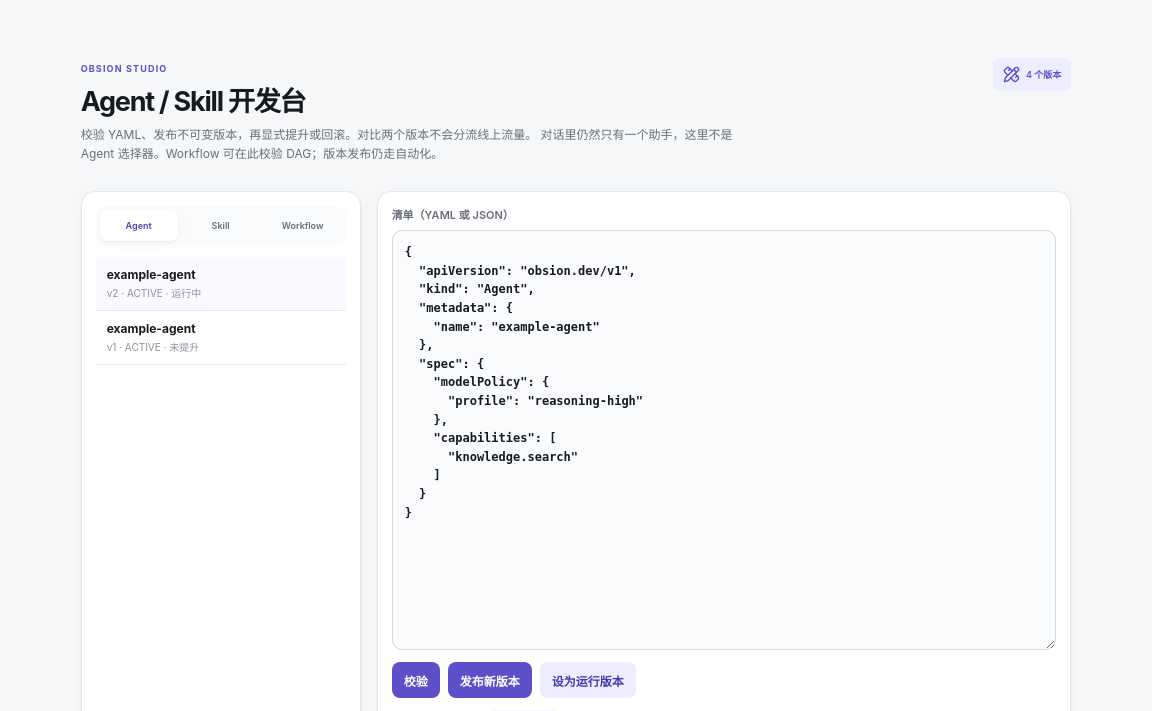
Test: StudioView interactions › promotes only the explicitly selected immutable version
Click the button "example-agent v1 · ACTIVE · 未提升" at (221, 338), box [96,311,346,365]
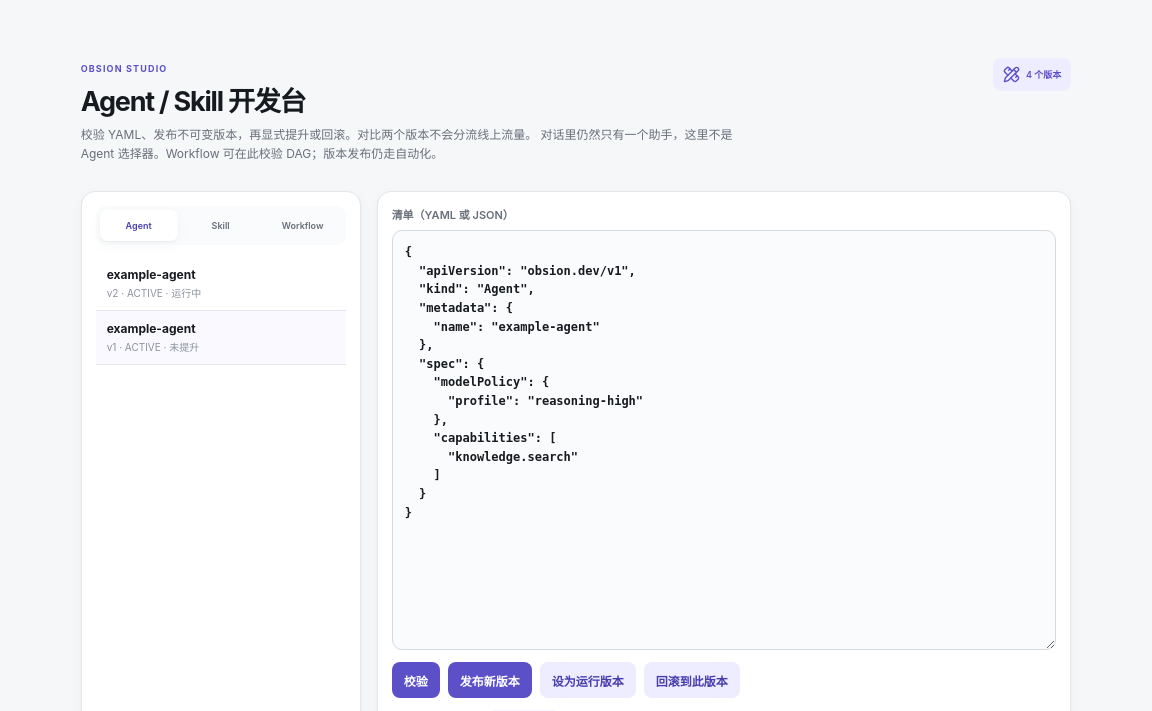
Click the button "设为运行版本" at (588, 680), box [540,662,636,698]
(page scrolled)
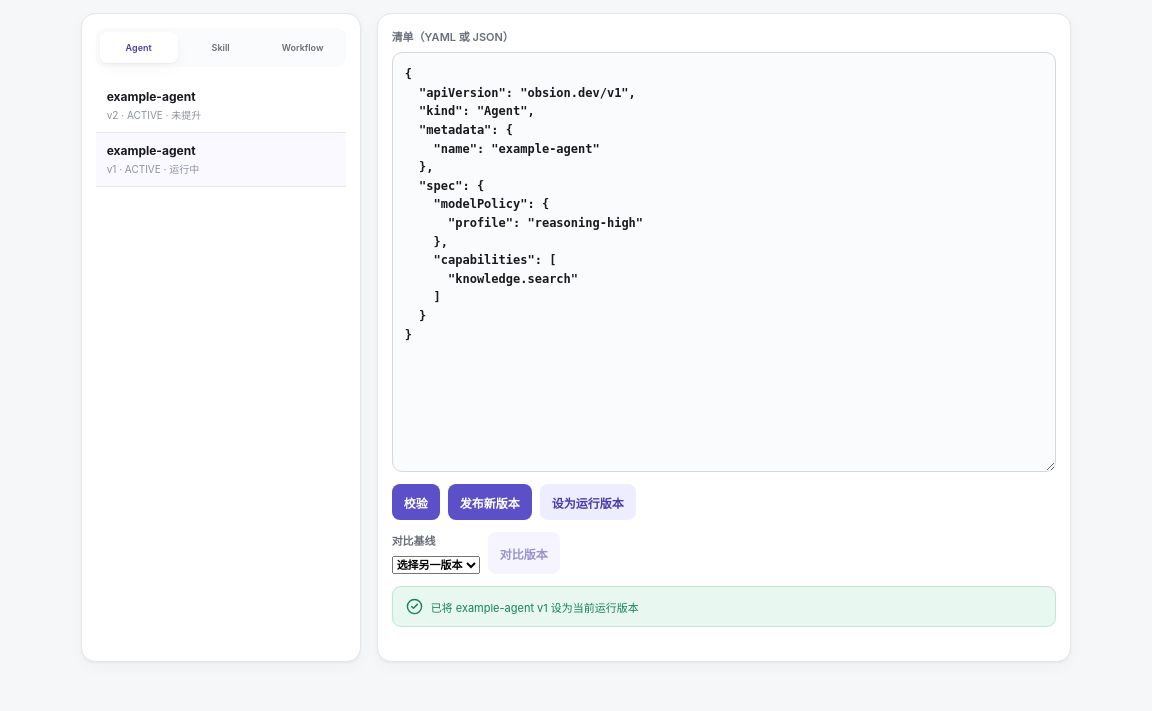
Expected: the text "已将 example-agent v1 设为当前运行版本" is shown, [431,599,639,615]
